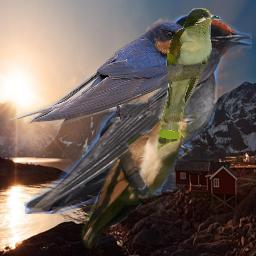Cuckoo: (77, 111, 197, 252), (156, 8, 221, 154)
Swallow: (24, 14, 252, 214), (9, 19, 197, 126)
